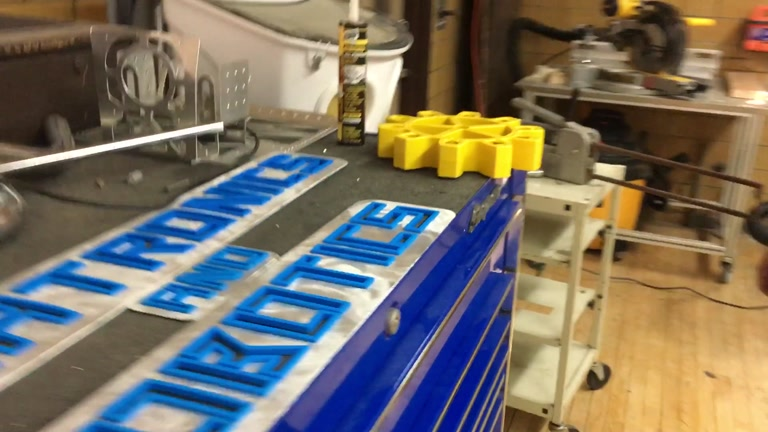gear: (377, 109, 544, 180)
